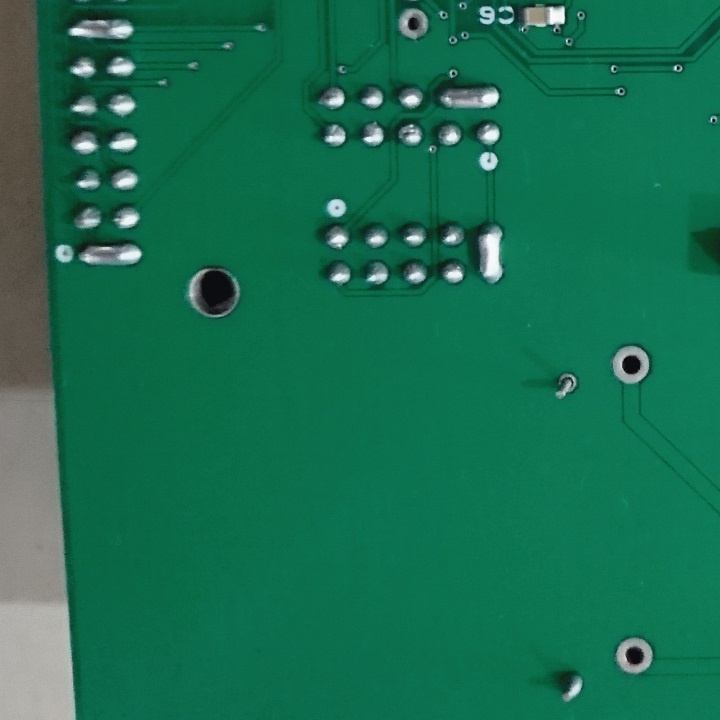F: (607, 342, 653, 387), (611, 633, 656, 675), (396, 6, 433, 44), (553, 369, 579, 403)
P: (64, 12, 138, 49), (75, 237, 149, 274), (472, 218, 508, 290), (433, 80, 504, 113)
